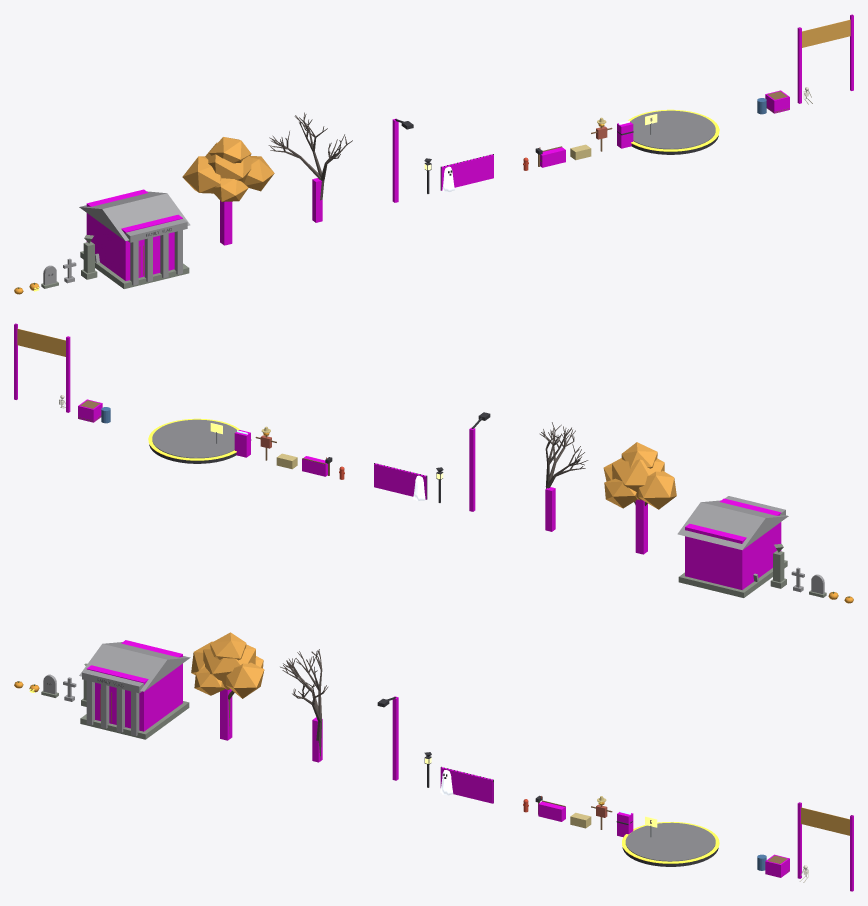
File: props.glb
3 views of the same model, one above another, from view 1: azimuth 30°, elevation 25°; view 2: azimuth 150°, elevation 25°; view 3: azimuth 330°, elevation 25° (orthographic).
Parts seen in each view (by area): view 1: Tree_Foliage, COL_Crypt, Turntable_Top, Crypt_Roof, Crypt_Columns, DeadTree, COL_Fence, Banner_Cloth, Crypt_Lintel, Crypt_Body, COL_Streetlight, COL_Tree; view 2: COL_Crypt, Tree_Foliage, Crypt_Roof, Turntable_Top, COL_Fence, DeadTree, Crypt_Body, Banner_Cloth, COL_Tree, COL_Streetlight; view 3: Tree_Foliage, COL_Crypt, Turntable_Top, Crypt_Roof, Crypt_Columns, DeadTree, COL_Fence, Banner_Cloth, Crypt_Body, Crypt_Lintel, COL_Tree, COL_Streetlight (+1 smaller).
Part boxes in pixels (<box>): Tree_Foliage: <box>182,137,274,201</box>; COL_Crypt: <box>86,189,182,280</box>; Turntable_Top: <box>630,110,715,149</box>; Crypt_Roof: <box>79,191,190,241</box>; Crypt_Columns: <box>130,230,182,285</box>; DeadTree: <box>268,112,352,200</box>; COL_Fence: <box>441,154,493,190</box>; Banner_Cloth: <box>802,19,850,47</box>; Crypt_Lintel: <box>124,219,187,242</box>; Crypt_Body: <box>80,251,189,288</box>; COL_Streetlight: <box>392,118,398,202</box>; COL_Tree: <box>220,200,232,245</box>; COL_Crypt: <box>685,498,781,589</box>; Tree_Foliage: <box>603,442,676,509</box>; Crypt_Roof: <box>677,500,788,550</box>; Turntable_Top: <box>152,419,237,458</box>; COL_Fence: <box>374,463,426,499</box>; DeadTree: <box>539,422,588,488</box>; Crypt_Body: <box>678,560,787,597</box>; Banner_Cloth: <box>17,328,65,356</box>; COL_Tree: <box>635,499,647,554</box>; COL_Streetlight: <box>469,427,475,511</box>; Tree_Foliage: <box>191,632,264,698</box>; COL_Crypt: <box>86,640,182,731</box>; Turntable_Top: <box>625,822,715,861</box>; Crypt_Roof: <box>79,642,190,691</box>; Crypt_Columns: <box>86,680,139,735</box>; DeadTree: <box>280,649,328,759</box>; COL_Fence: <box>440,767,493,803</box>; Banner_Cloth: <box>801,807,849,835</box>; Crypt_Body: <box>80,701,189,739</box>; Crypt_Lintel: <box>82,669,143,693</box>; COL_Tree: <box>220,689,232,740</box>; COL_Streetlight: <box>392,696,398,780</box>.
Size of the model in its own units: 64.32 by 7.72 by 6.5.
